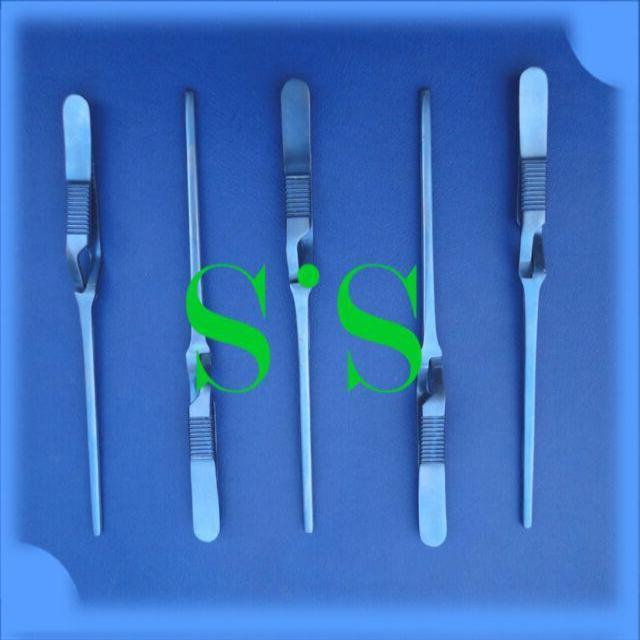Bulldog: (57, 90, 111, 546), (270, 70, 321, 544), (177, 90, 227, 550), (406, 78, 453, 552), (513, 64, 555, 540)
